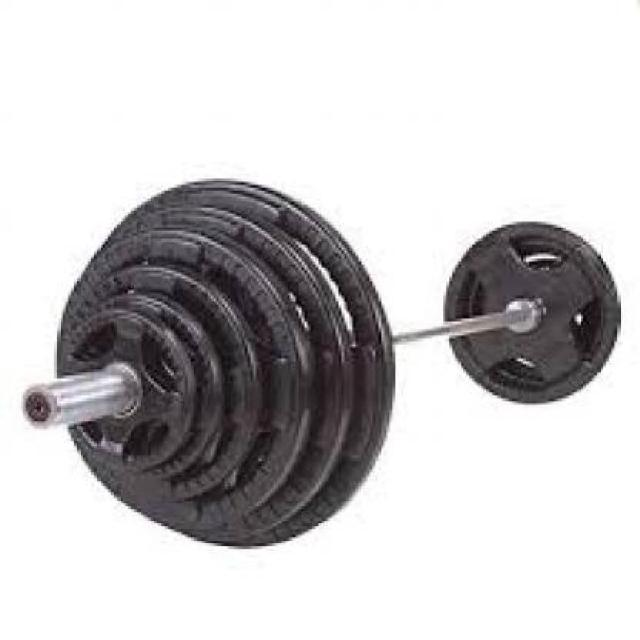barbell: (53, 168, 410, 559), (446, 210, 626, 418)
